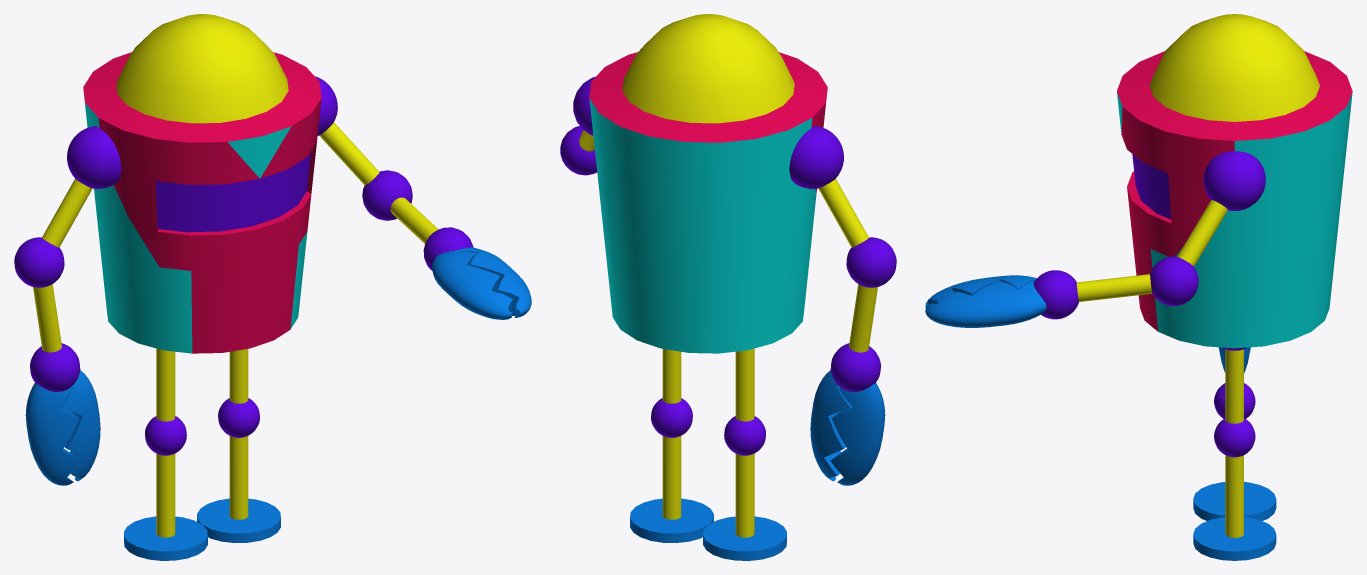
The model's file is RobotRandy_in_prog.fbx.
The picture shows the model from 3 angles, left to right: view 1: azimuth 30°, elevation 25°; view 2: azimuth 150°, elevation 25°; view 3: azimuth 270°, elevation 25°; orthographic projection.
Parts seen in each view (by area): view 1: RobotRandypose; view 2: RobotRandypose; view 3: RobotRandypose.
Boxes of the visible parts, <box> form: RobotRandypose: <box>14,14,531,560</box>; RobotRandypose: <box>560,14,896,560</box>; RobotRandypose: <box>925,14,1352,560</box>.
Size of the model in its own units: 4.11 by 5.36 by 4.11.
